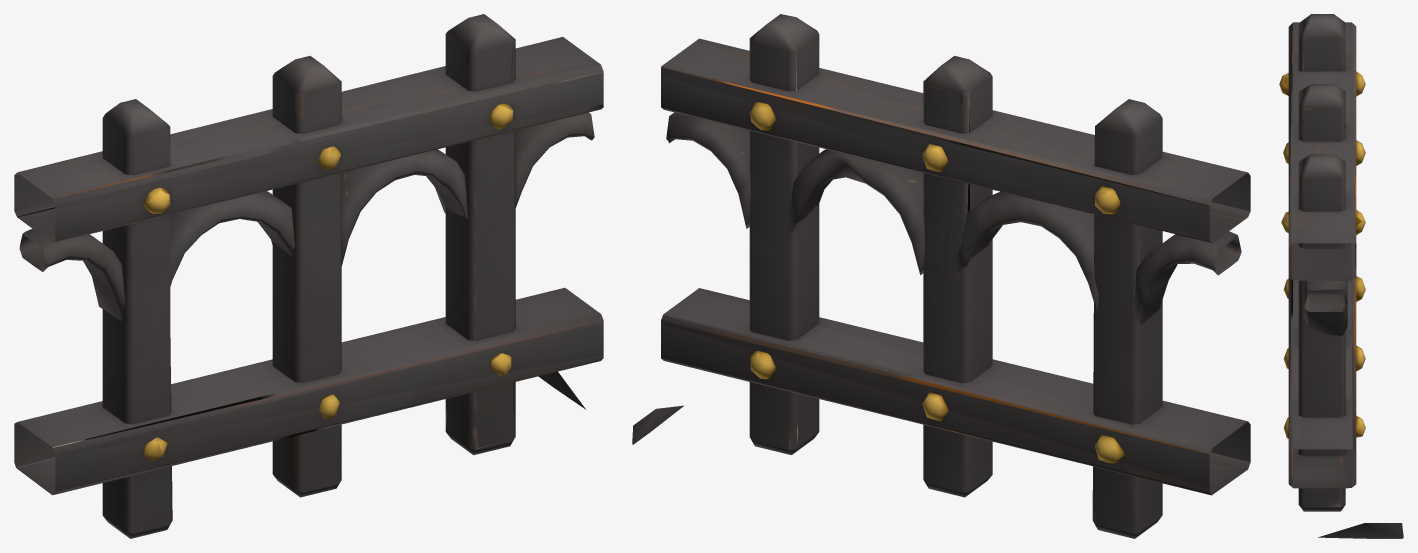
The model's file is fence_iron_bare.glb.
3 renders of one model, left to right at view 1: azimuth 30°, elevation 25°; view 2: azimuth 150°, elevation 25°; view 3: azimuth 270°, elevation 25°, orthographic. The views are drawn at different scales.
Parts seen in each view (by area): view 1: fence_iron; view 2: fence_iron; view 3: fence_iron.
Part boxes in pixels (<box>): fence_iron: <box>14,14,603,538</box>; fence_iron: <box>632,14,1250,538</box>; fence_iron: <box>1279,14,1403,538</box>.
Size of the model in its own units: 0.4069 by 0.2988 by 0.0969.
1 material, 1 textured.
